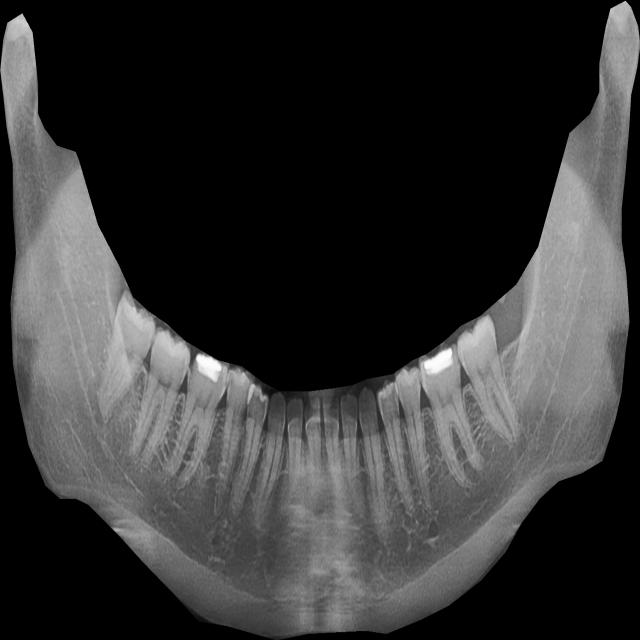mandibula: (0, 1, 640, 640)
